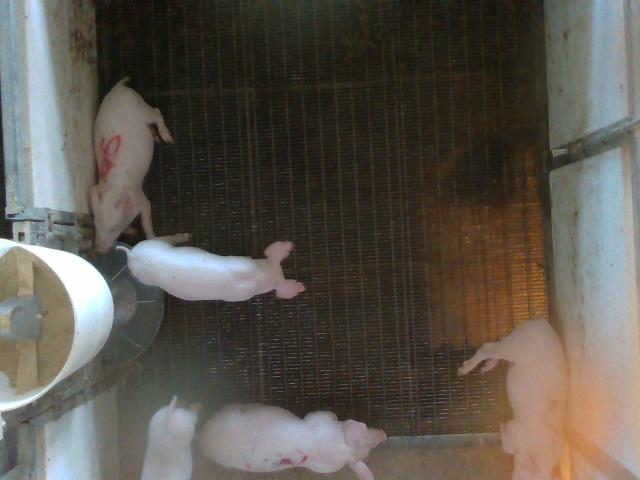pig-2: (459, 319, 566, 478)
pig-3: (200, 404, 386, 479)
pig-5: (90, 78, 174, 252)
